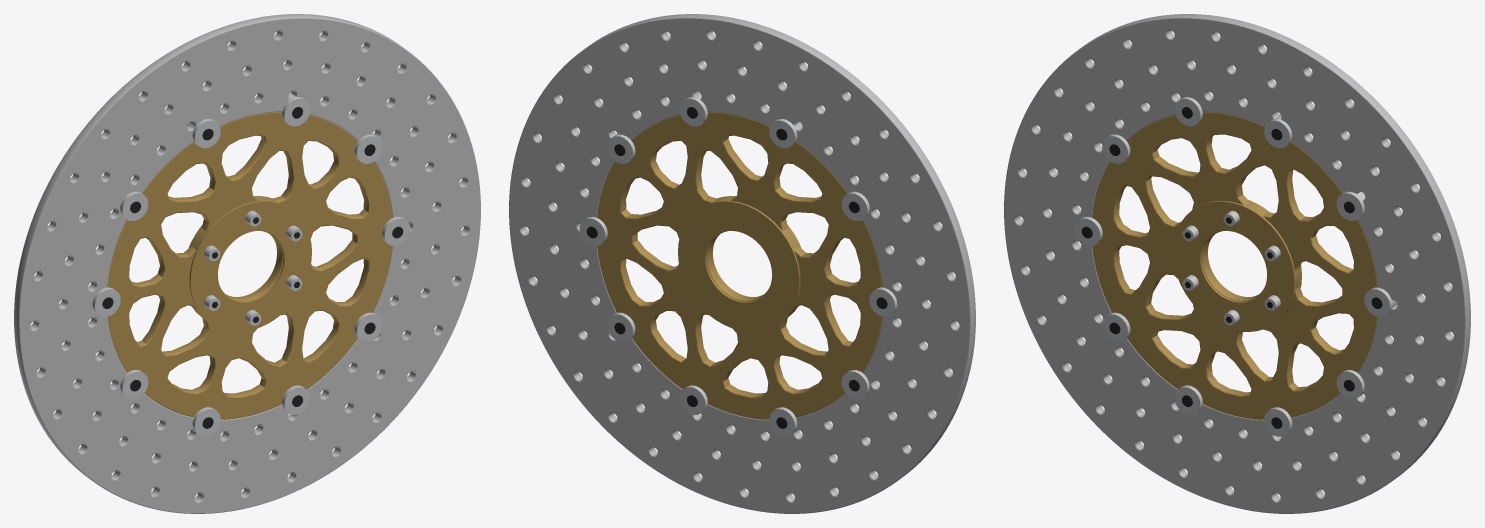
Rendered from lattice.glb.
The picture shows the model from 3 angles, left to right: view 1: azimuth 30°, elevation 25°; view 2: azimuth 150°, elevation 25°; view 3: azimuth 330°, elevation 25°; orthographic projection.
Visible parts, largest first — view 1: disc_rear_lattice; view 2: disc_rear_lattice; view 3: disc_rear_lattice.
Part boxes in pixels (x1,y1,x2,y2): disc_rear_lattice: (14,14,480,513); disc_rear_lattice: (509,14,975,513); disc_rear_lattice: (1004,14,1470,513).
Size of the model in its own units: 0.2368 by 0.2368 by 0.0126.
